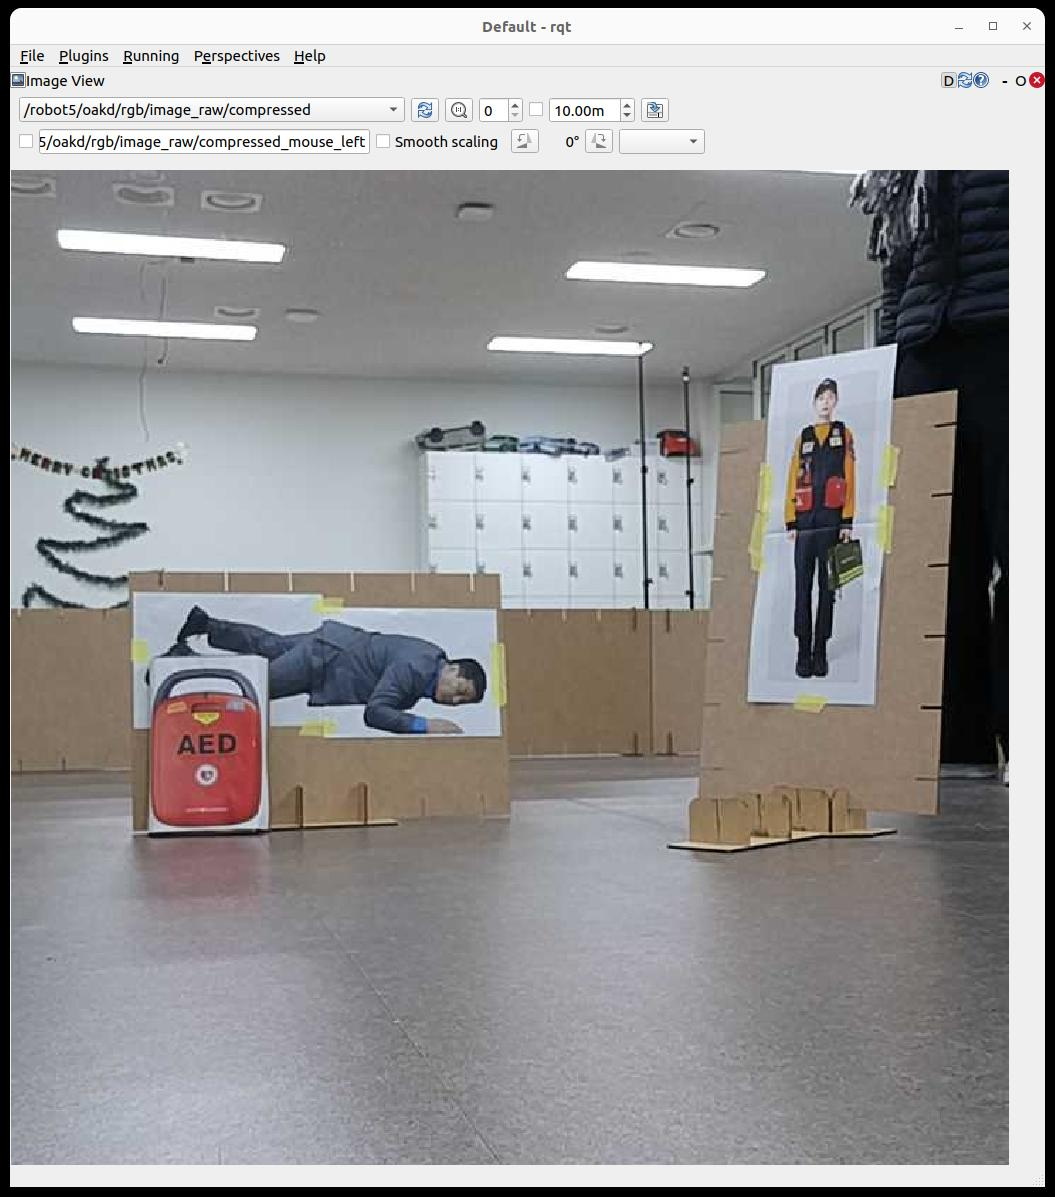AED: (150, 668, 263, 828)
Patient: (179, 606, 485, 734)
Responder: (785, 379, 862, 677)
